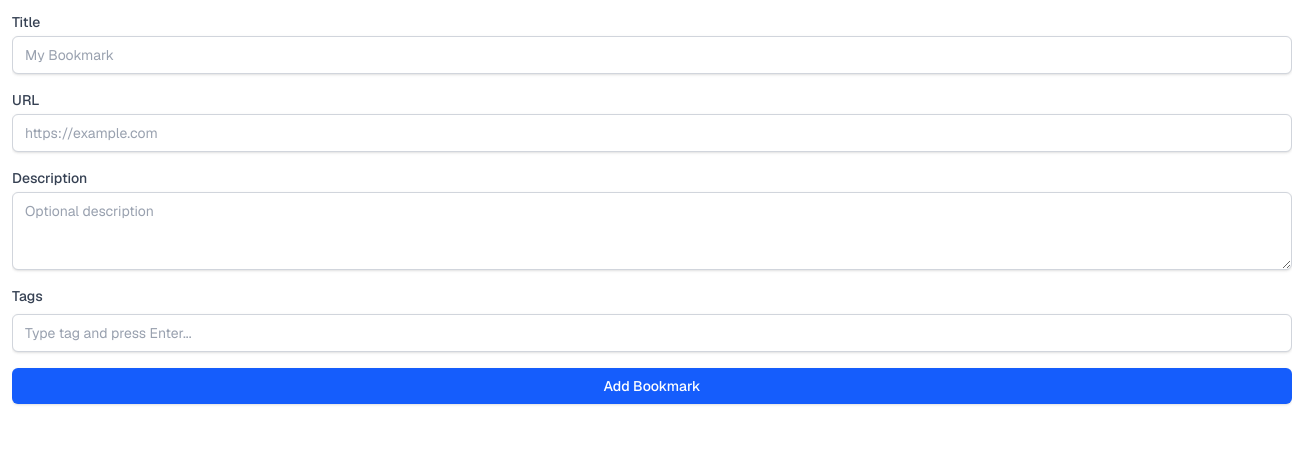
AddBookmarkForm › clears error when user starts typing
Submit empty form to trigger error
Click the button "Add Bookmark": (652,386) [12, 368, 1292, 404]
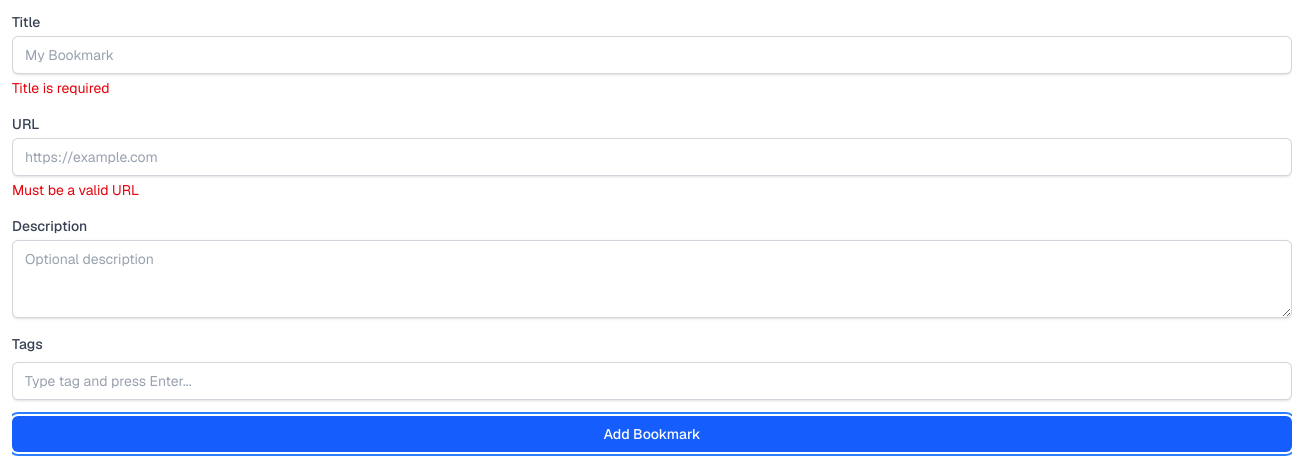
Check: the text "Title is required" is shown, box [12, 79, 110, 97]
Start typing to clear error
In the field labelled "Title": (652,55) [12, 36, 1292, 74], type "Test"
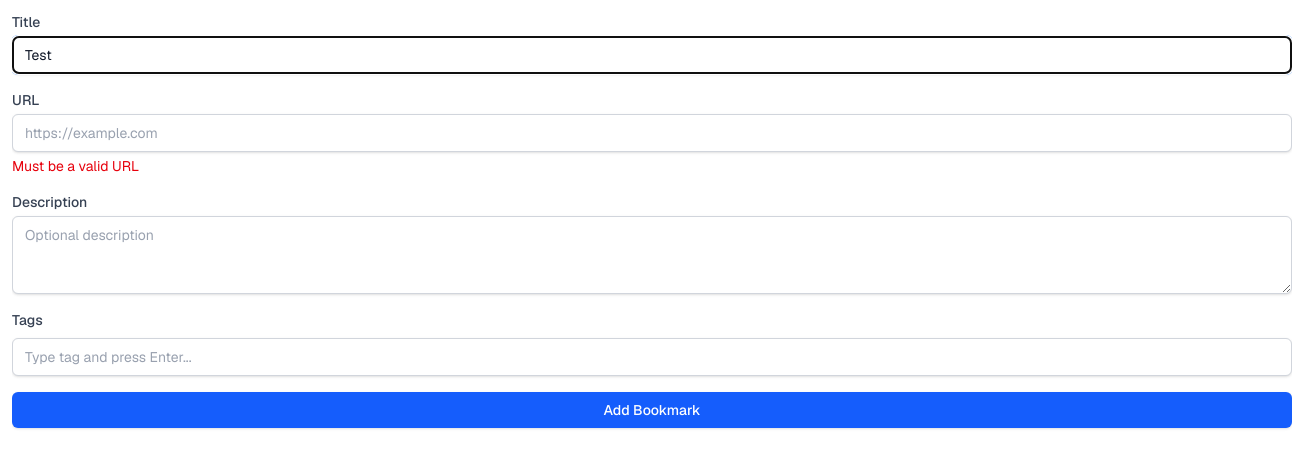
Check: the text "Title is required" is gone
